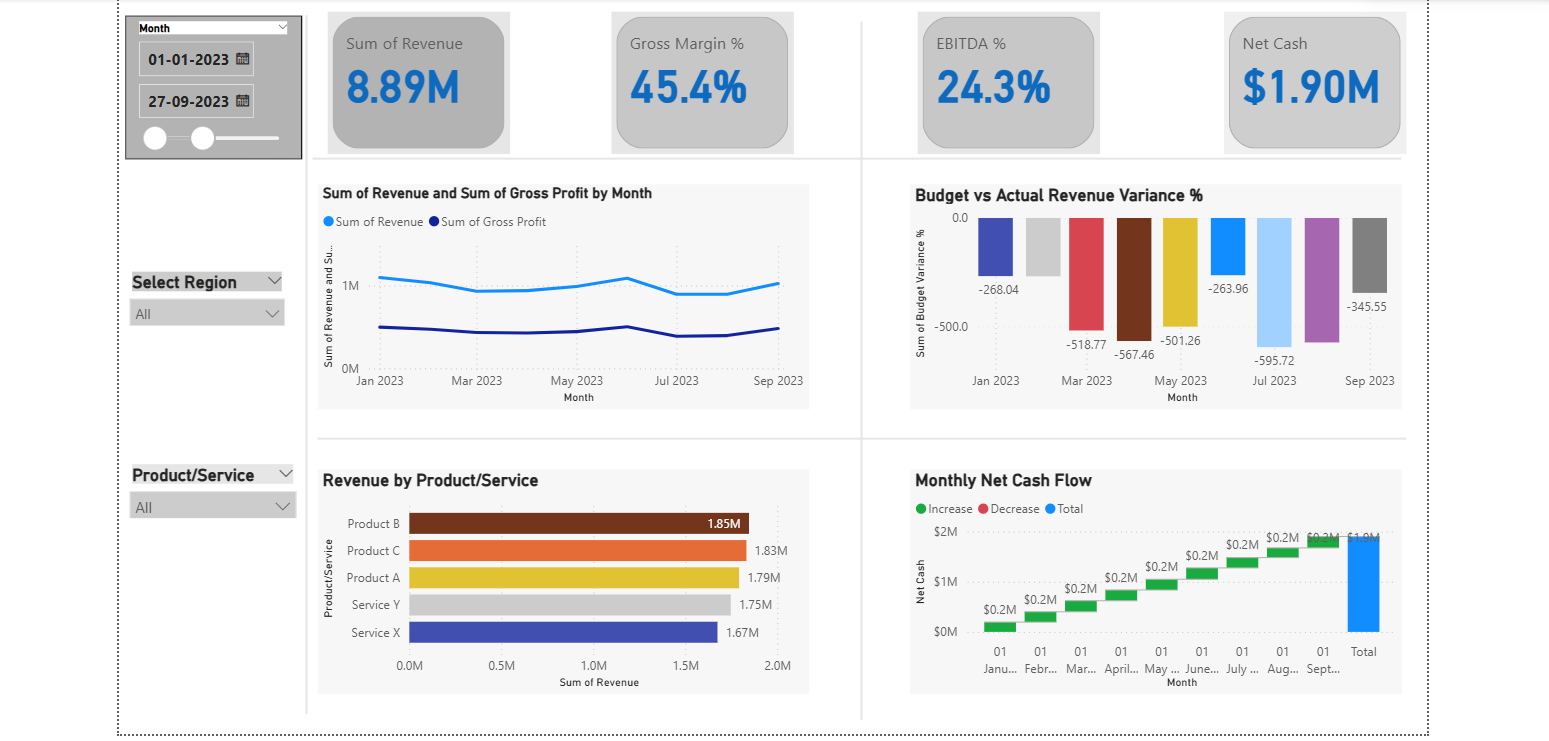

This screenshot's page, from the dashboard's own definition file:
{"tool":"powerbi","page":{"name":"Page 1","canvas":[1280,720],"ordinal":0},"visuals":[{"type":"cardVisual","fields":{"Data":["Data Analyst -Case Study Data xlsx - Data.Net Cash"]},"box":[1081,13.5,178.5,139.4],"z":0},{"type":"cardVisual","fields":{"Data":["Sum(Data Analyst -Case Study Data xlsx - Data.Revenue)"]},"box":[204.2,13.5,178.5,139.4],"z":1000},{"type":"cardVisual","fields":{"Data":["Data Analyst -Case Study Data xlsx - Data.Gross Margin %"]},"box":[481.8,13.5,178.5,139.4],"z":2000},{"type":"cardVisual","fields":{"Data":["Data Analyst -Case Study Data xlsx - Data.EBITDA %"]},"box":[781.4,13.5,178.5,139.4],"z":3000},{"type":"lineChart","fields":{"Y":["Sum(Data Analyst -Case Study Data xlsx - Data.Revenue)","Sum(Data Analyst -Case Study Data xlsx - Data.Gross Profit)"],"Category":["Data Analyst -Case Study Data xlsx - Data.Month"]},"box":[204.2,182.2,480.6,220.1],"z":4000},{"type":"slicer","fields":{"Values":["Data Analyst -Case Study Data xlsx - Data.Month"]},"box":[0,17.1,172.4,140.6],"z":5000},{"type":"slicer","fields":{"Values":["Data Analyst -Case Study Data xlsx - Data.Region"]},"box":[0,262.9,172.4,57.5],"z":6000},{"type":"slicer","fields":{"Values":["Data Analyst -Case Study Data xlsx - Data.Product/Service"]},"box":[0,451.2,183.4,57.5],"z":7000},{"type":"clusteredColumnChart","title":"Budget vs Actual Revenue Variance %","fields":{"Category":["Data Analyst -Case Study Data xlsx - Data.Month"],"Y":["Sum(Data Analyst -Case Study Data xlsx - Data.Budget Variance %)"]},"box":[774.1,182.2,480.6,220.1],"z":8000},{"type":"clusteredBarChart","title":"Revenue by Product/Service","fields":{"Category":["Data Analyst -Case Study Data xlsx - Data.Product/Service"],"Y":["Sum(Data Analyst -Case Study Data xlsx - Data.Revenue)"]},"box":[204.2,480.6,480.6,220.1],"z":9000},{"type":"waterfallChart","title":"Monthly Net Cash Flow","fields":{"Y":["Data Analyst -Case Study Data xlsx - Data.Net Cash"],"Category":["Data Analyst -Case Study Data xlsx - Data.Month"]},"box":[774.1,480.6,480.6,220.1],"z":10000},{"type":"shape","box":[720.2,23.2,12.2,683.6],"z":11000},{"type":"shape","box":[177.3,17.1,12.2,683.6],"z":12000},{"type":"shape","box":[194.4,419.4,1065.1,23.2],"z":13000},{"type":"shape","box":[189.5,145.5,1065.1,23.2],"z":14000}]}

Visuals, with their boxes on the page's 1280x720 design canvas (x1, y1, x2, y2). These are canvas units, not pixel positions in the 1549x741 screenshot, which may show the page scaled, cropped or inside an application window:
cardVisual - Data Analyst -Case Study Data xlsx - Data.Net Cash: (x1=1081, y1=14, x2=1260, y2=153)
cardVisual - Sum(Data Analyst -Case Study Data xlsx - Data.Revenue): (x1=204, y1=14, x2=383, y2=153)
cardVisual - Data Analyst -Case Study Data xlsx - Data.Gross Margin %: (x1=482, y1=14, x2=660, y2=153)
cardVisual - Data Analyst -Case Study Data xlsx - Data.EBITDA %: (x1=781, y1=14, x2=960, y2=153)
lineChart - Sum(Data Analyst -Case Study Data xlsx - Data.Revenue) x Sum(Data Analyst -Case Study Data xlsx - Data.Gross Profit): (x1=204, y1=182, x2=685, y2=402)
slicer - Data Analyst -Case Study Data xlsx - Data.Month: (x1=0, y1=17, x2=172, y2=158)
slicer - Data Analyst -Case Study Data xlsx - Data.Region: (x1=0, y1=263, x2=172, y2=320)
slicer - Data Analyst -Case Study Data xlsx - Data.Product/Service: (x1=0, y1=451, x2=183, y2=509)
"Budget vs Actual Revenue Variance %" clusteredColumnChart: (x1=774, y1=182, x2=1255, y2=402)
"Revenue by Product/Service" clusteredBarChart: (x1=204, y1=481, x2=685, y2=701)
"Monthly Net Cash Flow" waterfallChart: (x1=774, y1=481, x2=1255, y2=701)
shape: (x1=720, y1=23, x2=732, y2=707)
shape: (x1=177, y1=17, x2=190, y2=701)
shape: (x1=194, y1=419, x2=1260, y2=443)
shape: (x1=190, y1=146, x2=1255, y2=169)
